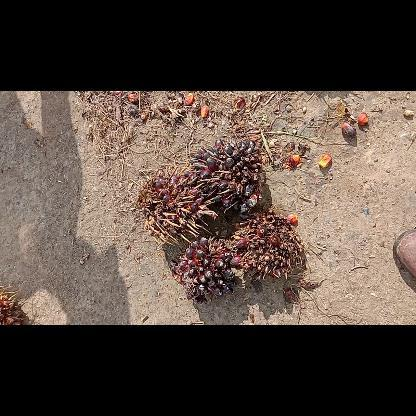TBS abnormal: (138, 168, 214, 244), (189, 139, 264, 213), (231, 210, 306, 280), (168, 236, 235, 304)
